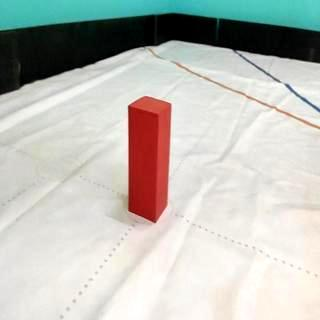redbox: (127, 94, 172, 224)
